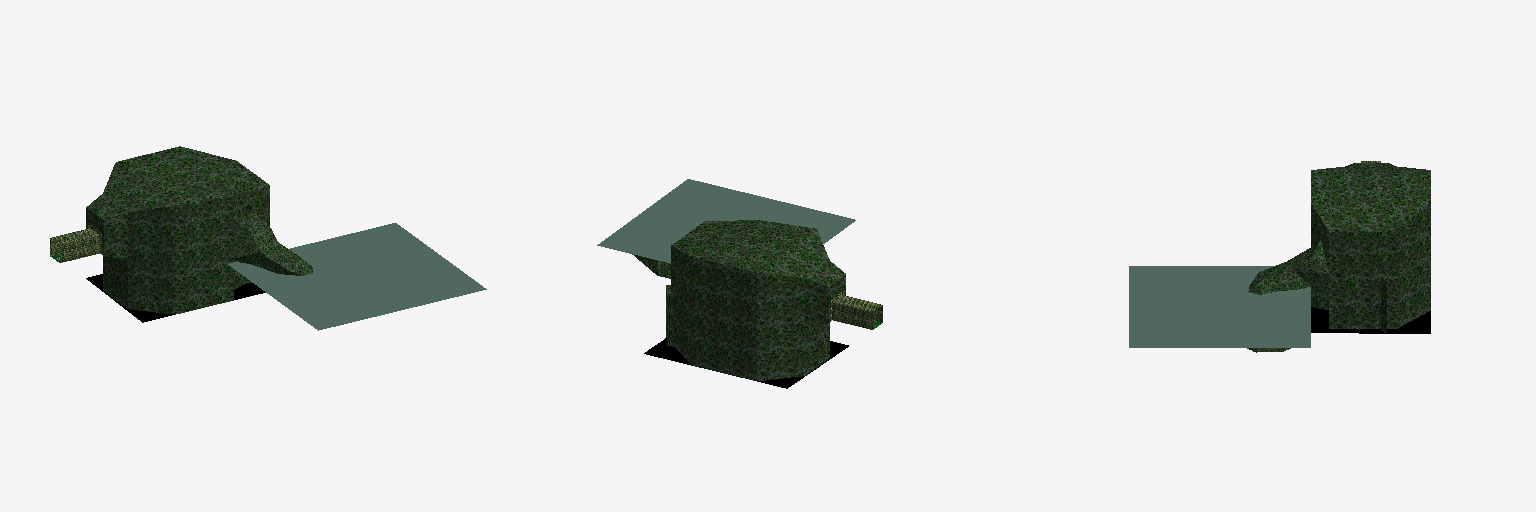
3 renders of one model, left to right at view 1: azimuth 30°, elevation 25°; view 2: azimuth 150°, elevation 25°; view 3: azimuth 270°, elevation 25°, orthographic.
Parts seen in each view (by area): view 1: mesh.010; view 2: mesh.010; view 3: mesh.010.
Part boxes in pixels (bbox=[...]): mesh.010: bbox=[50, 146, 486, 330]; mesh.010: bbox=[597, 179, 882, 388]; mesh.010: bbox=[1129, 161, 1430, 352].
Size of the model in its own units: 3107 by 1038 by 2618.
7 materials, 5 textured.